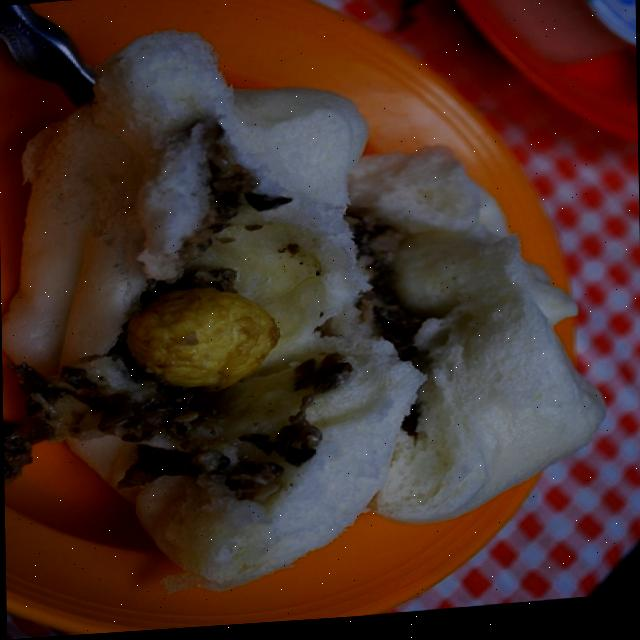带馅早点: (0, 0, 611, 633)
